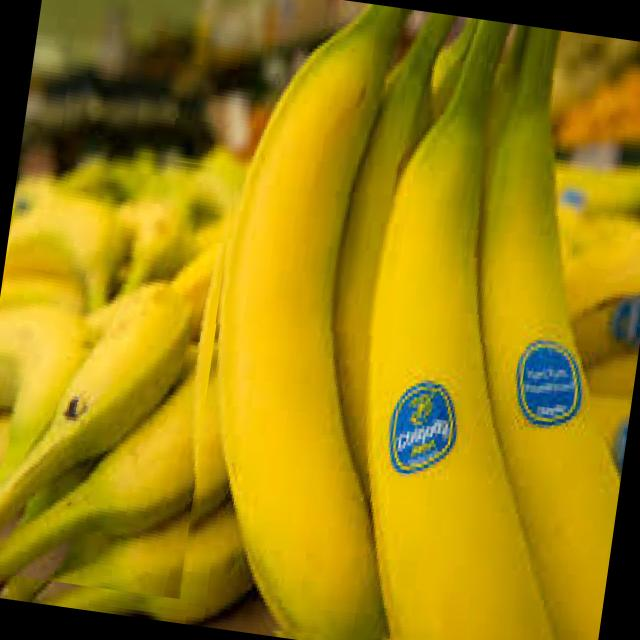Organic: (171, 0, 640, 640), (0, 135, 278, 604)
